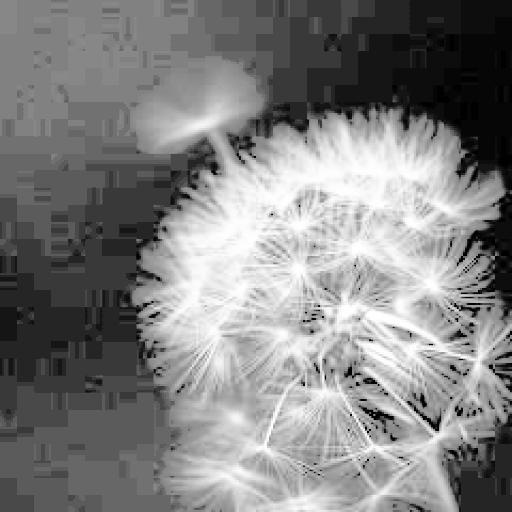dandelion: (132, 121, 511, 512)
